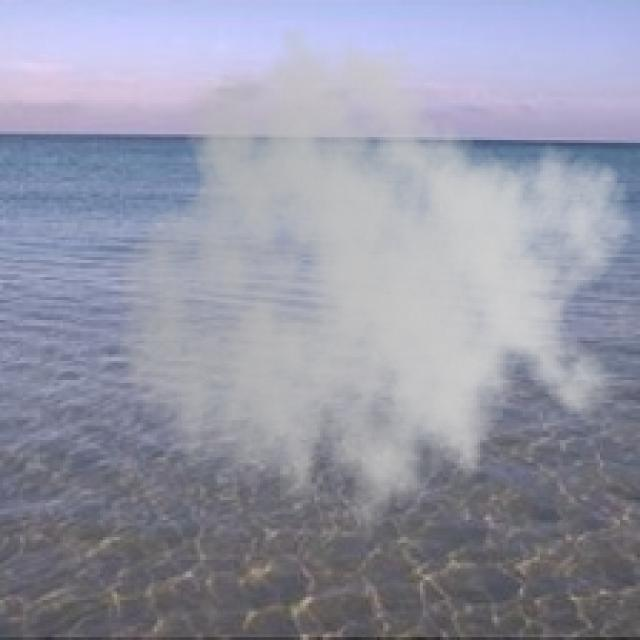smoke: (117, 11, 634, 566)
